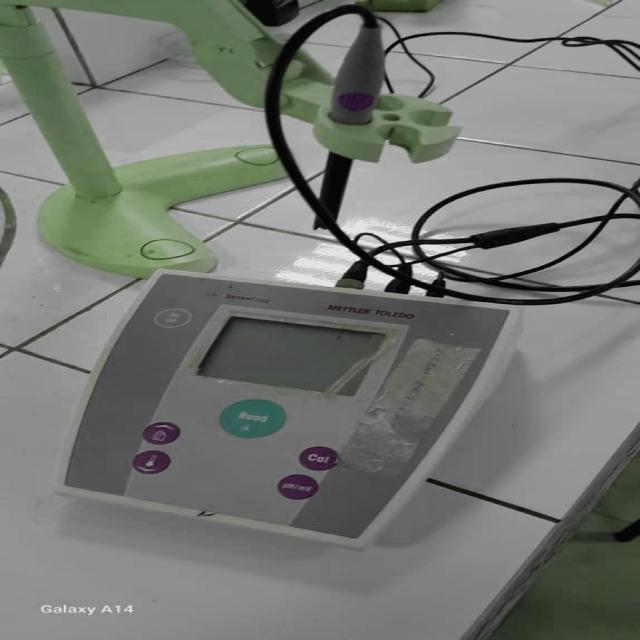PH meter: (40, 17, 638, 607)
